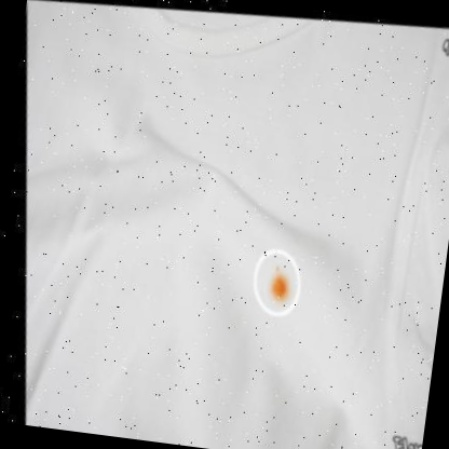kimchi: (263, 266, 293, 302)
